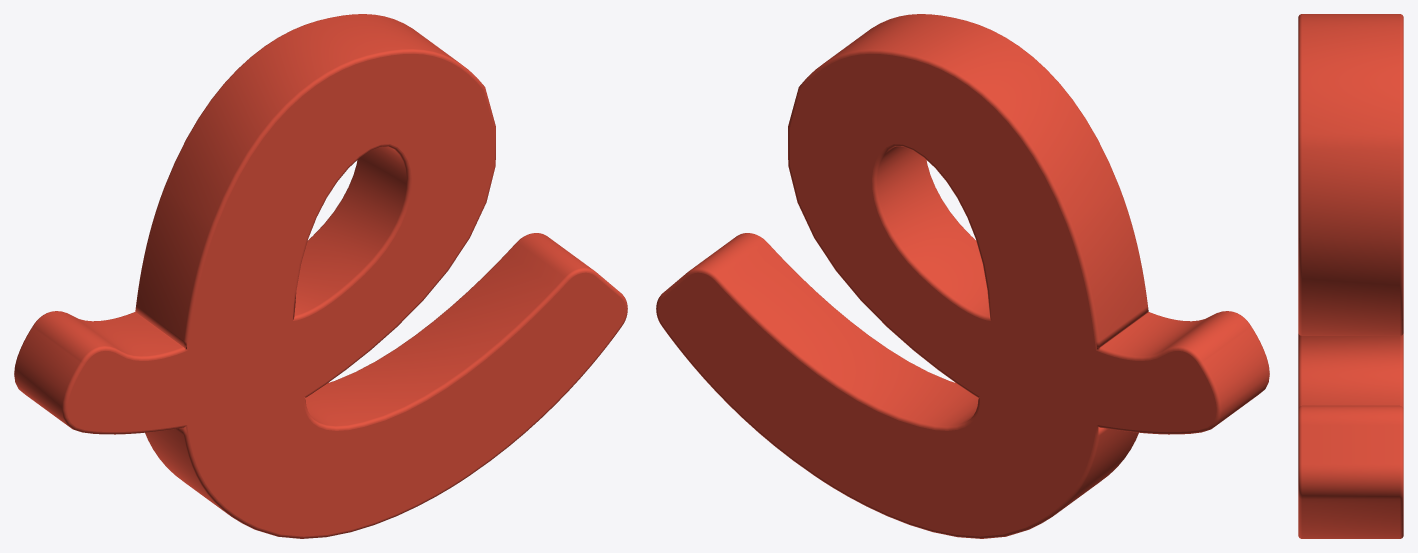
Rendered from ember.glb.
The picture shows the model from 3 angles, left to right: view 1: azimuth 30°, elevation 25°; view 2: azimuth 150°, elevation 25°; view 3: azimuth 270°, elevation 25°; orthographic projection. The views are drawn at different scales.
Visible parts, largest first — view 1: Curve.004; view 2: Curve.004; view 3: Curve.004.
Boxes of the visible parts, x1,y1,x2,y2 form: Curve.004: [14, 14, 627, 538]; Curve.004: [656, 14, 1269, 538]; Curve.004: [1298, 14, 1403, 538].
Size of the model in its own units: 1.38 by 1.1 by 0.216.
